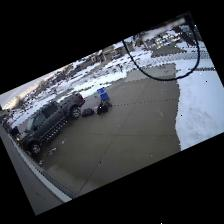person: (94, 100, 112, 114)
